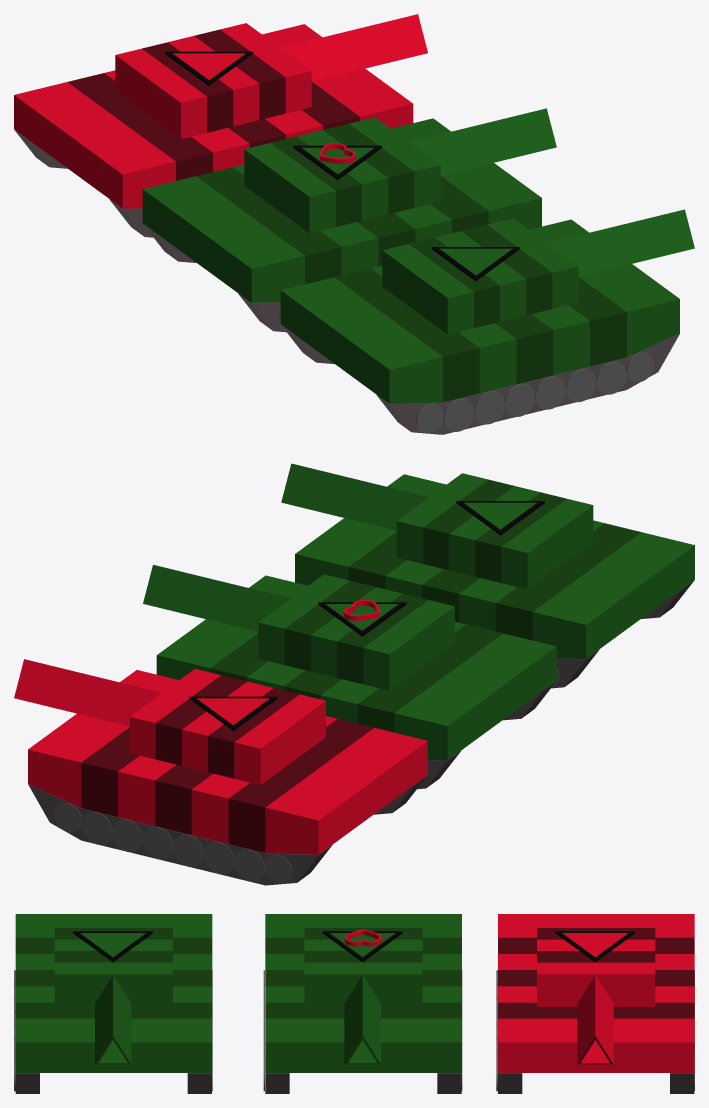
Rendered from TriangleTanks.fbx.
The picture shows the model from 3 angles, top to bottom: view 1: azimuth 30°, elevation 25°; view 2: azimuth 150°, elevation 25°; view 3: azimuth 270°, elevation 25°; orthographic projection. The views are drawn at different scales.
Parts seen in each view (by area): view 1: TriangleTank, HealerTriangleTank, EnemyTriangleTank; view 2: EnemyTriangleTank, TriangleTank, HealerTriangleTank; view 3: HealerTriangleTank, TriangleTank, EnemyTriangleTank.
Boxes of the visible parts, bbox=[...] form: TriangleTank: bbox=[280, 209, 694, 434]; HealerTriangleTank: bbox=[142, 108, 556, 332]; EnemyTriangleTank: bbox=[14, 14, 427, 237]; EnemyTriangleTank: bbox=[14, 659, 427, 885]; TriangleTank: bbox=[281, 463, 694, 688]; HealerTriangleTank: bbox=[143, 564, 556, 789]; HealerTriangleTank: bbox=[263, 914, 462, 1093]; TriangleTank: bbox=[14, 914, 212, 1093]; EnemyTriangleTank: bbox=[496, 914, 694, 1093].
Size of the model in its own units: 2998 by 532 by 1604.
